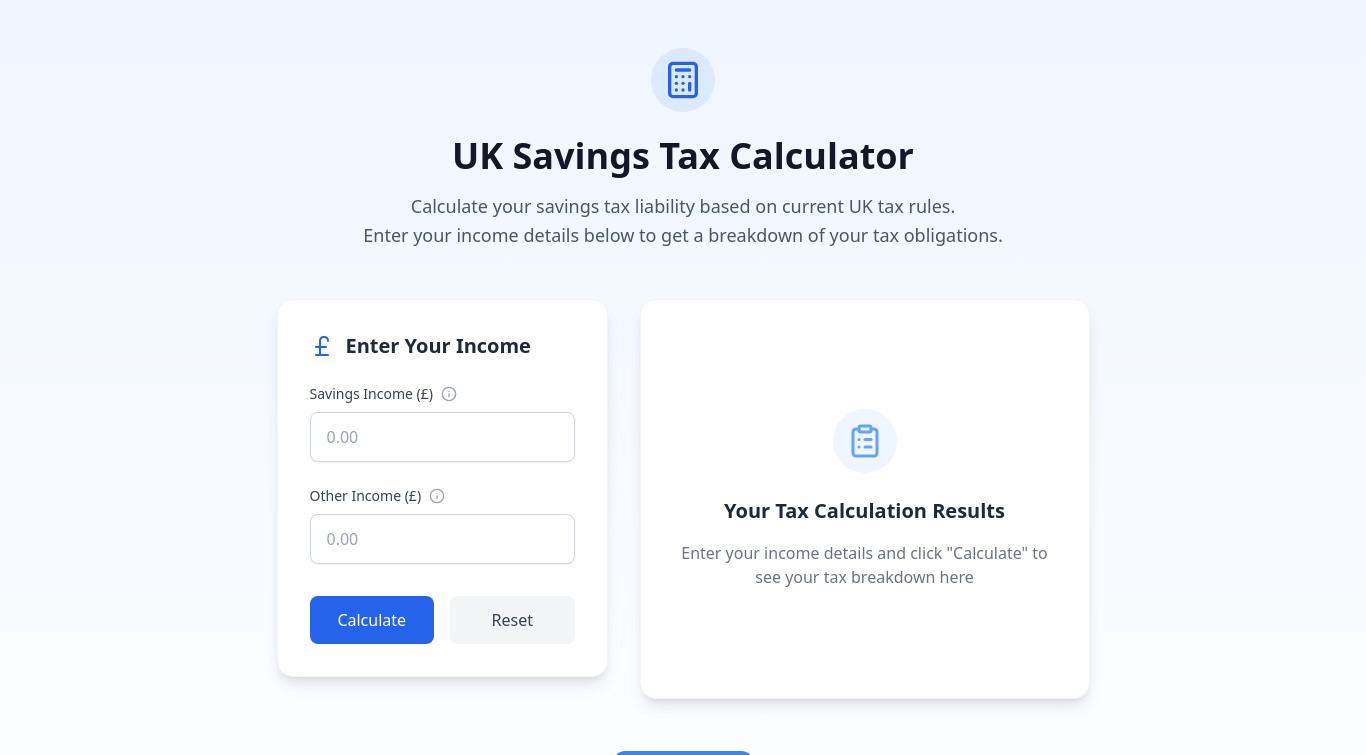
it: calculate the pounds the person submitted › truncates £1,001.90 of savings interest and £20,000.40 of other income to whole pounds and taxes those pounds
Type "1001.90" into the field with placeholder "0.00" below "Savings Income (£)" at (442, 436), box [310, 412, 574, 462]
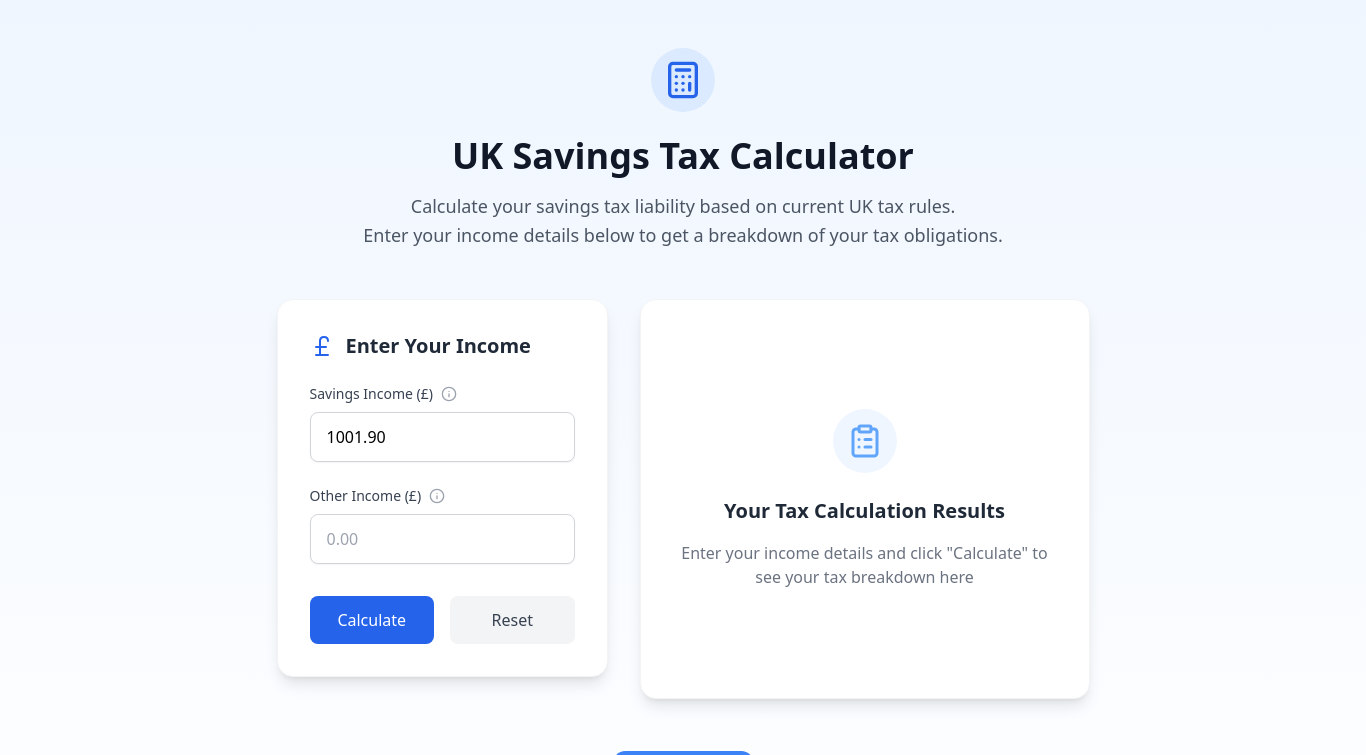
Type "20000.40" into the field with placeholder "0.00" at (442, 538), box [310, 514, 574, 564]
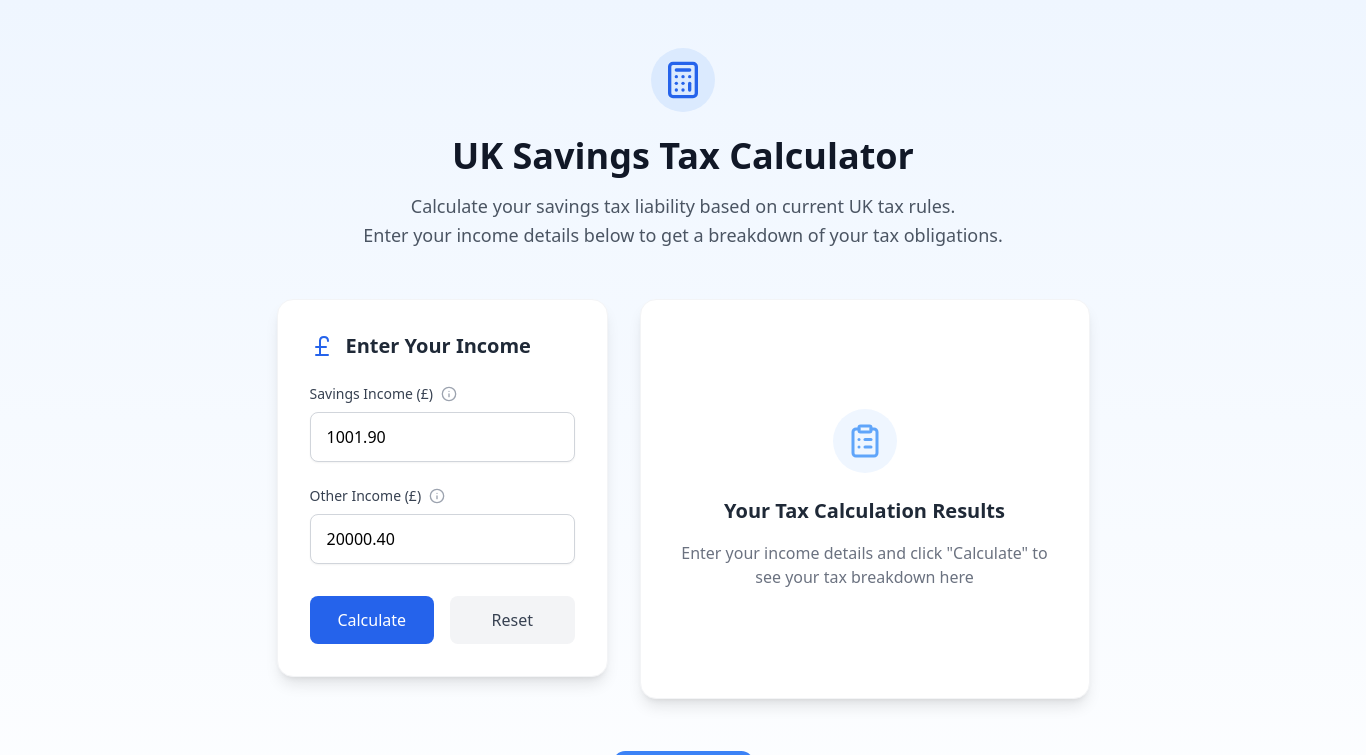
Click the button "Calculate" at (372, 620), box [310, 596, 434, 644]
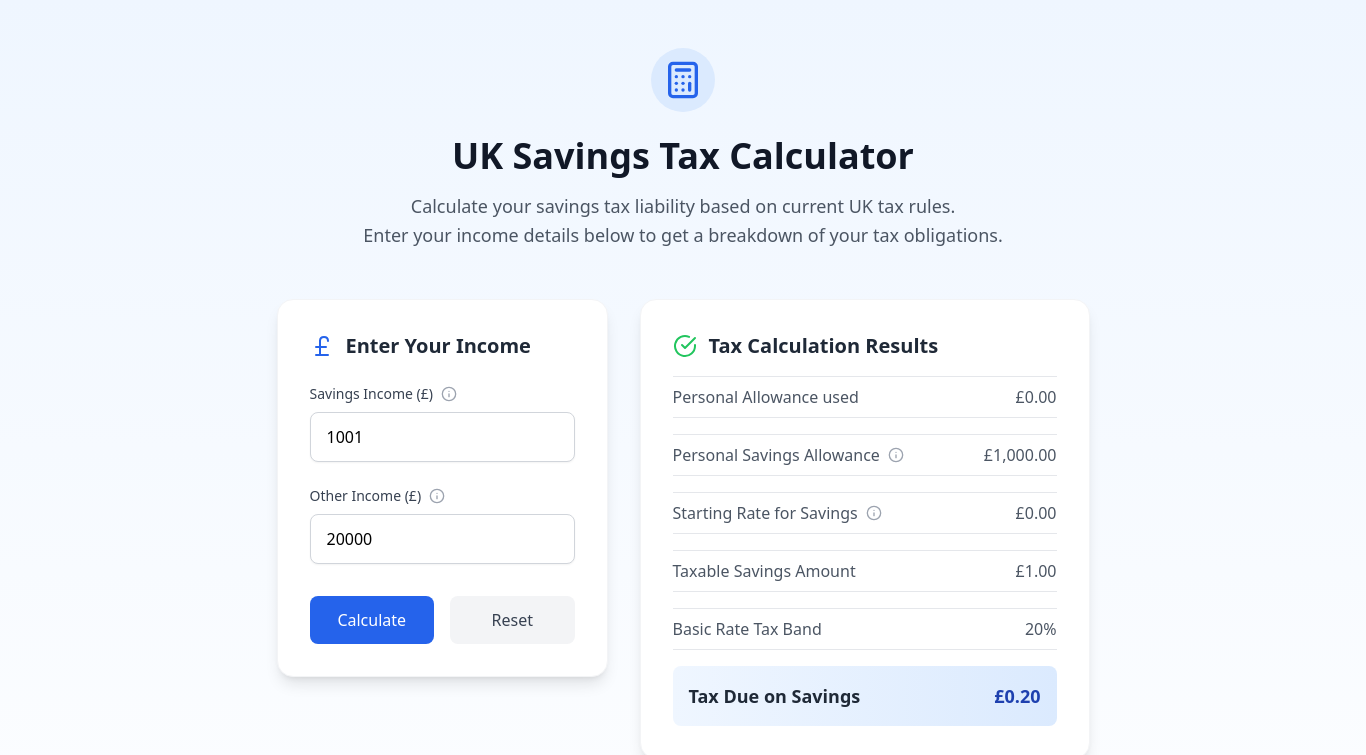
Now the field below "Savings Income (£)" holds "1001", box [310, 412, 574, 462]
Now the field below "Other Income (£)" holds "20000", box [310, 514, 574, 564]
